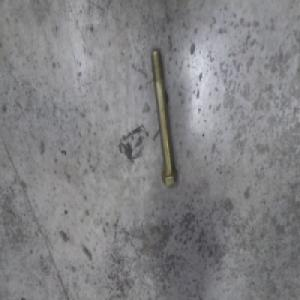Bolt: (144, 44, 176, 180)
